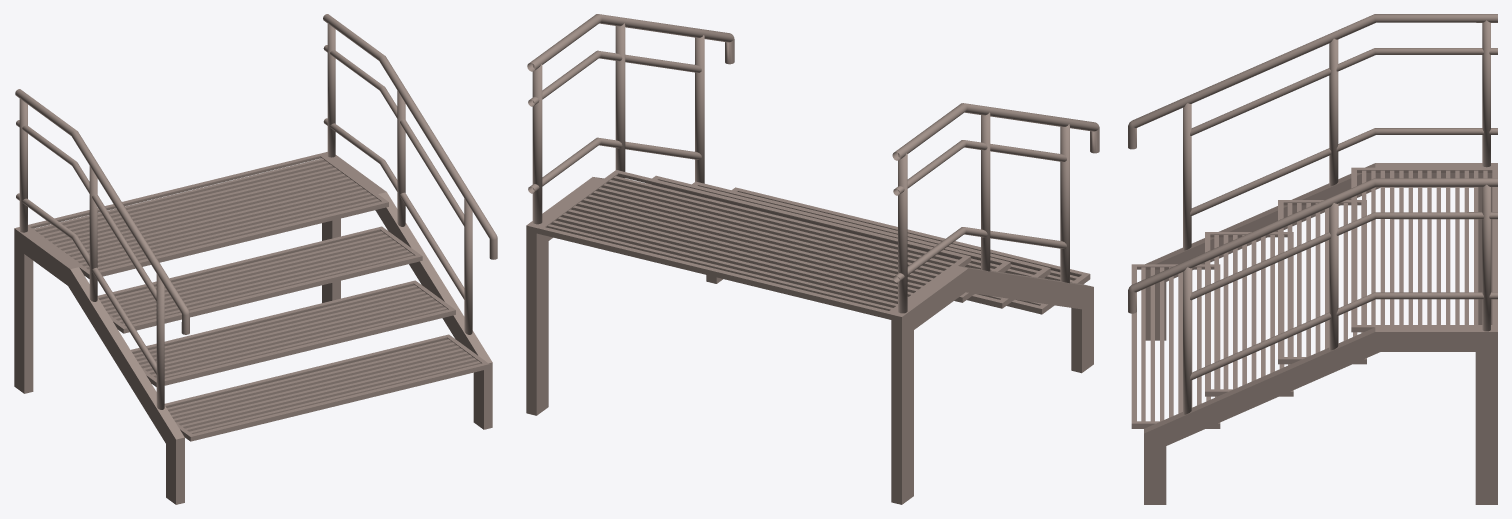
File: stairs.glb
3 renders of one model, left to right at view 1: azimuth 30°, elevation 25°; view 2: azimuth 150°, elevation 25°; view 3: azimuth 270°, elevation 25°, orthographic. The views are drawn at different scales.
Parts seen in each view (by area): view 1: Cube.003_4, Cube.001_41, Cube.002_46, Cube_51, Cube.004_35, Cube.005_5, Cube.011_36, Cube.018_25, Cube.021_30, Plane.001_37, Plane.009_42, Plane.002_47 (+19 smaller); view 2: Cube.003_4, Cube.005_5, Cube.008_8, Plane.015_2, Cube.004_35, Cube.021_30, Cube.018_25, Cube.007_7, Plane.013_0, Cylinder.003_19, Cube.006_6, Cylinder.004_20 (+12 smaller); view 3: Cube.003_4, Cube.011_36, Cube.002_46, Cube.001_41, Cube_51, Cube.018_25, Cube.021_30, Cube.008_8, Cube.010_10, Cube.004_35, Cube.023_32, Cube.022_31 (+19 smaller).
Boxes of the visible parts, bbox=[...] form: Cube.003_4: bbox=[33, 158, 380, 270]; Cube.001_41: bbox=[167, 339, 481, 433]; Cube.002_46: bbox=[133, 285, 447, 378]; Cube_51: bbox=[99, 231, 414, 325]; Cube.004_35: bbox=[68, 267, 184, 443]; Cube.005_5: bbox=[14, 247, 33, 393]; Cube.011_36: bbox=[375, 192, 492, 363]; Cube.018_25: bbox=[15, 89, 189, 334]; Cube.021_30: bbox=[323, 14, 497, 259]; Plane.001_37: bbox=[190, 363, 489, 441]; Plane.009_42: bbox=[156, 309, 455, 385]; Plane.002_47: bbox=[123, 255, 422, 333]; Cube.003_4: bbox=[546, 176, 958, 310]; Cube.005_5: bbox=[891, 330, 913, 504]; Cube.008_8: bbox=[526, 241, 548, 415]; Plane.015_2: bbox=[537, 227, 891, 319]; Cube.004_35: bbox=[959, 266, 1093, 309]; Cube.021_30: bbox=[527, 14, 734, 71]; Cube.018_25: bbox=[892, 103, 1099, 160]; Cube.007_7: bbox=[891, 266, 968, 338]; Plane.013_0: bbox=[616, 170, 970, 261]; Cylinder.003_19: bbox=[532, 64, 542, 224]; Cube.006_6: bbox=[1071, 287, 1093, 373]; Cylinder.004_20: bbox=[615, 23, 625, 177]; Cube.003_4: bbox=[1362, 170, 1487, 324]; Cube.011_36: bbox=[1144, 327, 1380, 445]; Cube.002_46: bbox=[1214, 235, 1284, 389]; Cube.001_41: bbox=[1141, 267, 1210, 421]; Cube_51: bbox=[1287, 203, 1357, 356]; Cube.018_25: bbox=[1128, 14, 1497, 149]; Cube.021_30: bbox=[1128, 178, 1497, 313]; Cube.008_8: bbox=[1475, 352, 1497, 504]; Cube.010_10: bbox=[1375, 327, 1497, 351]; Cube.004_35: bbox=[1145, 163, 1380, 281]; Cube.023_32: bbox=[1190, 292, 1497, 380]; Cube.022_31: bbox=[1190, 212, 1497, 300].
Bounding box in the file's own units: 1.8 × 1.61 × 1.67.
